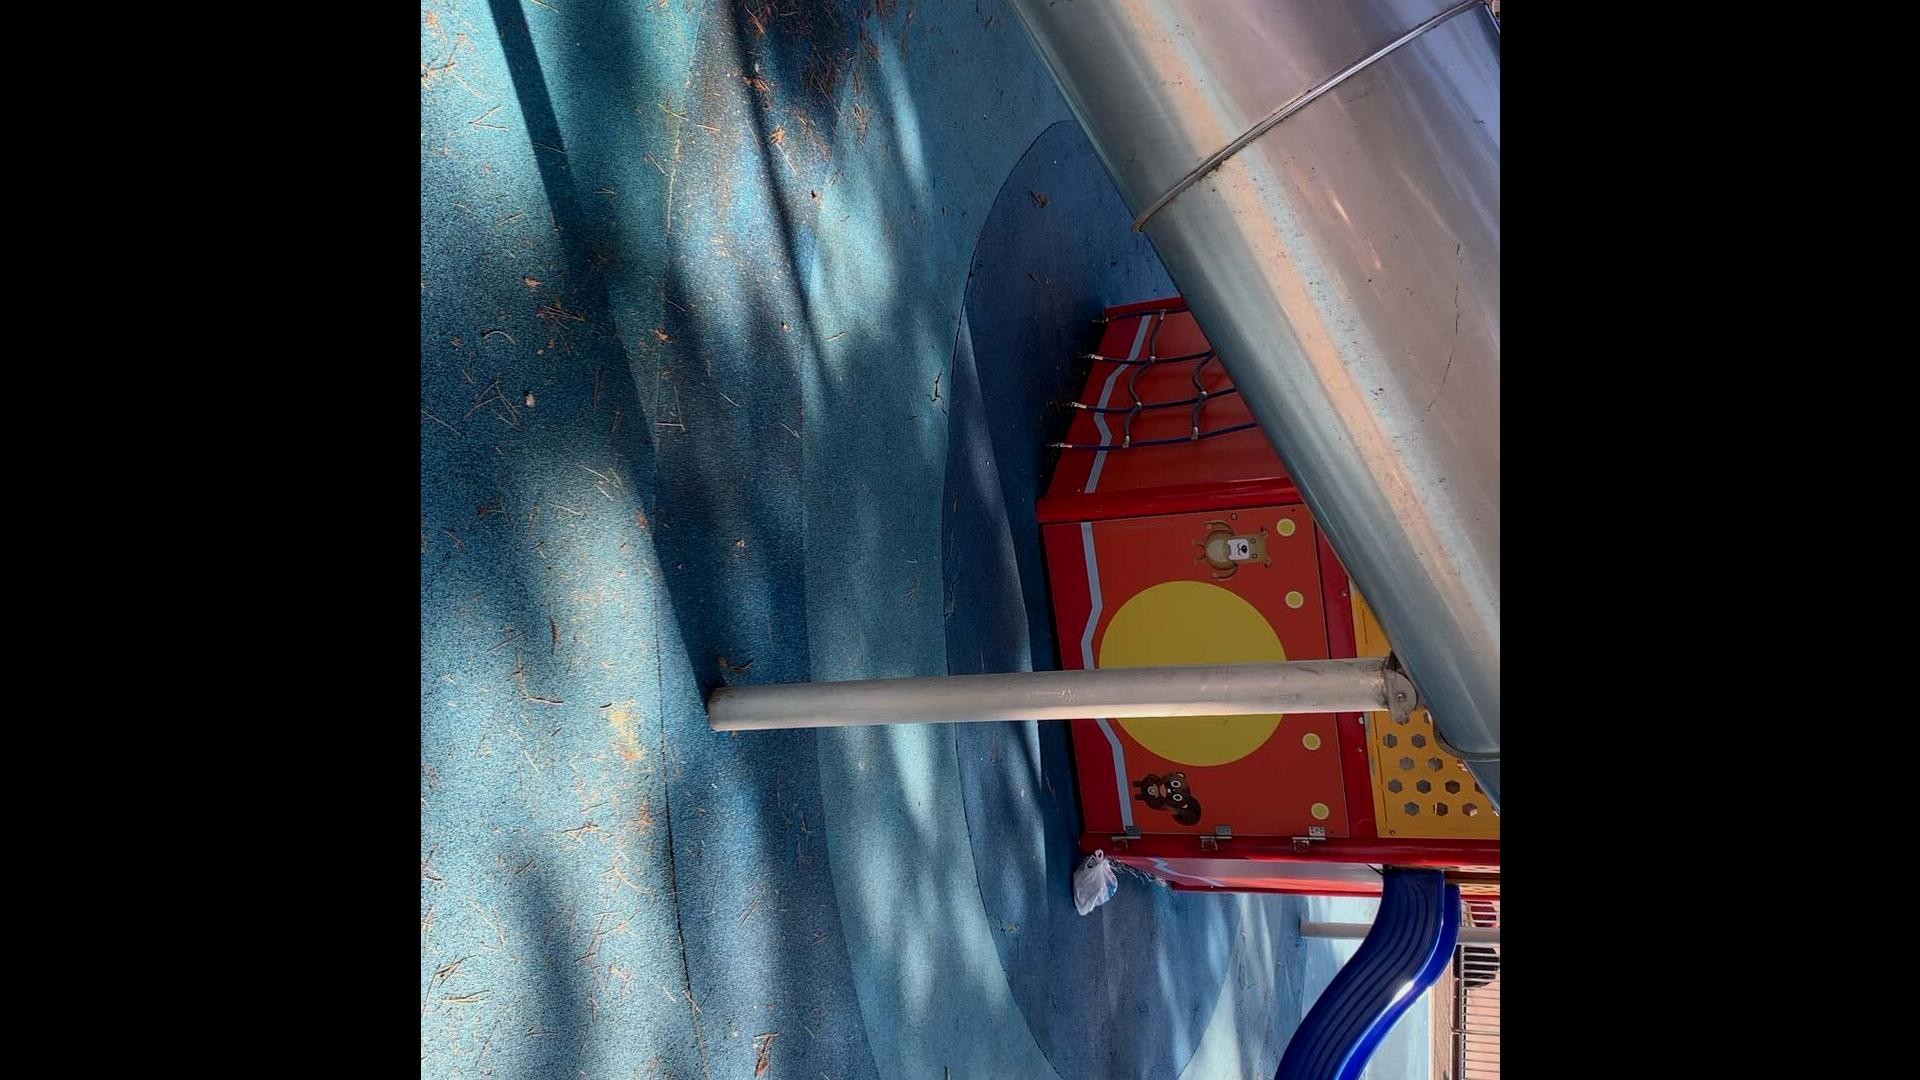white_bag: (1069, 843, 1122, 920)
